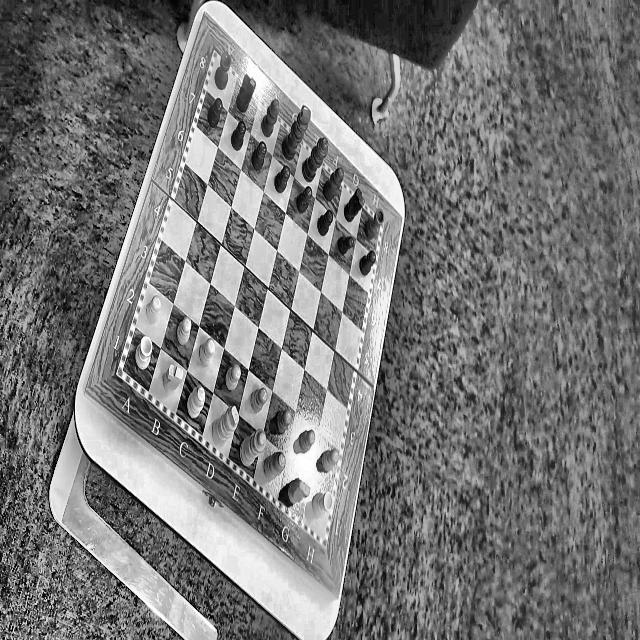chessboard: (123, 55, 382, 538)
